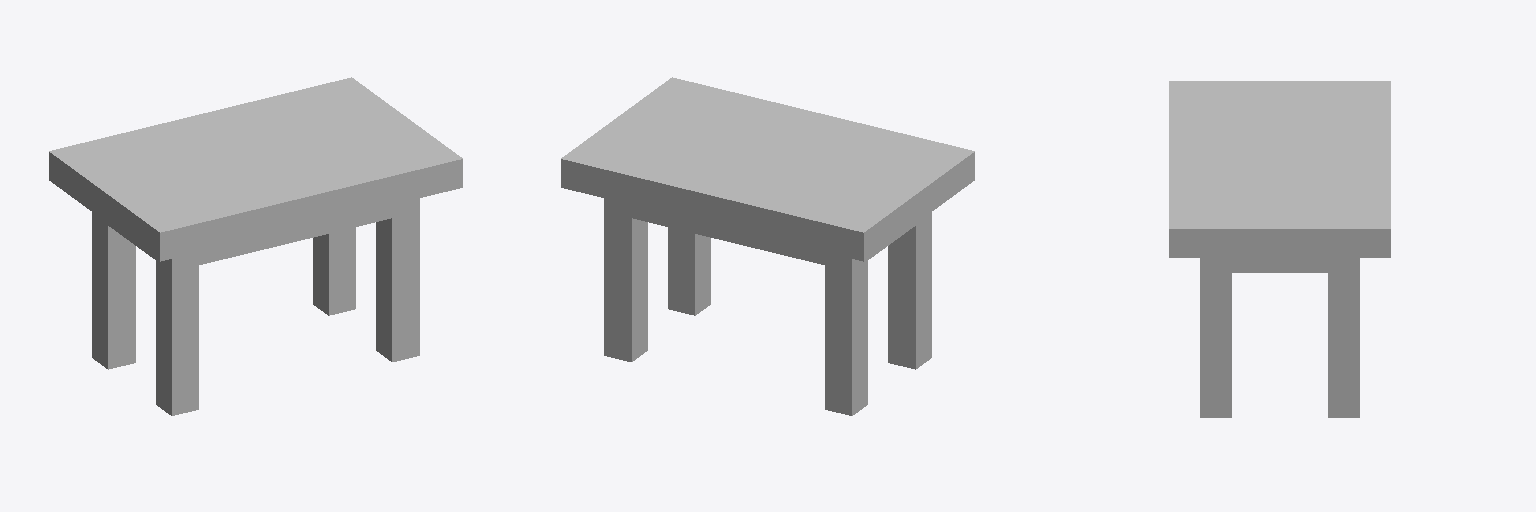
File: table.obj
3 views of the same model, side by side, from view 1: azimuth 30°, elevation 25°; view 2: azimuth 150°, elevation 25°; view 3: azimuth 270°, elevation 25° (orthographic).
Visible parts, largest first — view 1: object 1; view 2: object 1; view 3: object 1.
Part boxes in pixels (bbox=[...]): object 1: bbox=[49, 77, 462, 415]; object 1: bbox=[561, 77, 974, 415]; object 1: bbox=[1169, 81, 1390, 417].
Bounding box in the file's own units: 1.1 × 0.7 × 0.7.